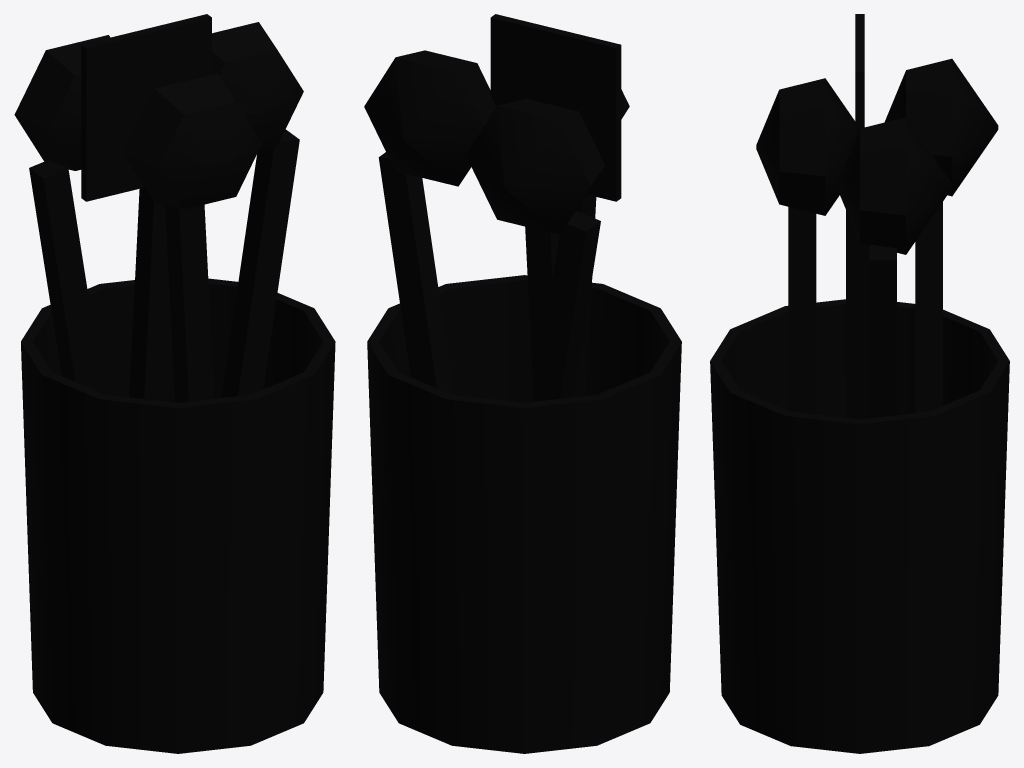
File: SM_utensil_crock.fbx
3 views of the same model, side by side, from view 1: azimuth 30°, elevation 25°; view 2: azimuth 150°, elevation 25°; view 3: azimuth 270°, elevation 25° (orthographic). The views are drawn at different scales.
Visible parts, largest first — view 1: utensil_crock; view 2: utensil_crock; view 3: utensil_crock.
Part boxes in pixels (<box>): utensil_crock: <box>14,14,335,753</box>; utensil_crock: <box>364,14,681,753</box>; utensil_crock: <box>710,14,1009,753</box>.
Size of the model in its own units: 0.13 by 0.305 by 0.13.
